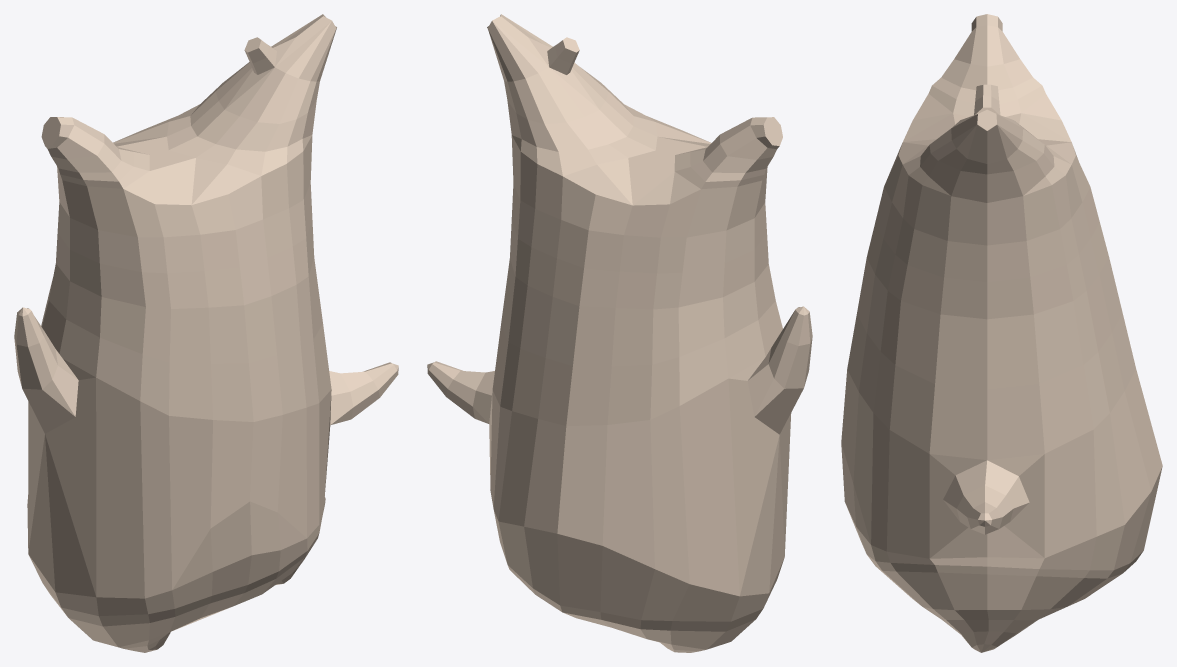
Rendered from frame_0112.obj.
The picture shows the model from 3 angles, left to right: view 1: azimuth 30°, elevation 25°; view 2: azimuth 150°, elevation 25°; view 3: azimuth 270°, elevation 25°; orthographic projection.
Visible parts, largest first — view 1: korok; view 2: korok; view 3: korok.
Boxes of the visible parts, <box> form: korok: <box>14,14,398,652</box>; korok: <box>427,14,812,652</box>; korok: <box>841,14,1162,652</box>.
Bounding box in the file's own units: 1.49 × 2.2 × 1.07.
